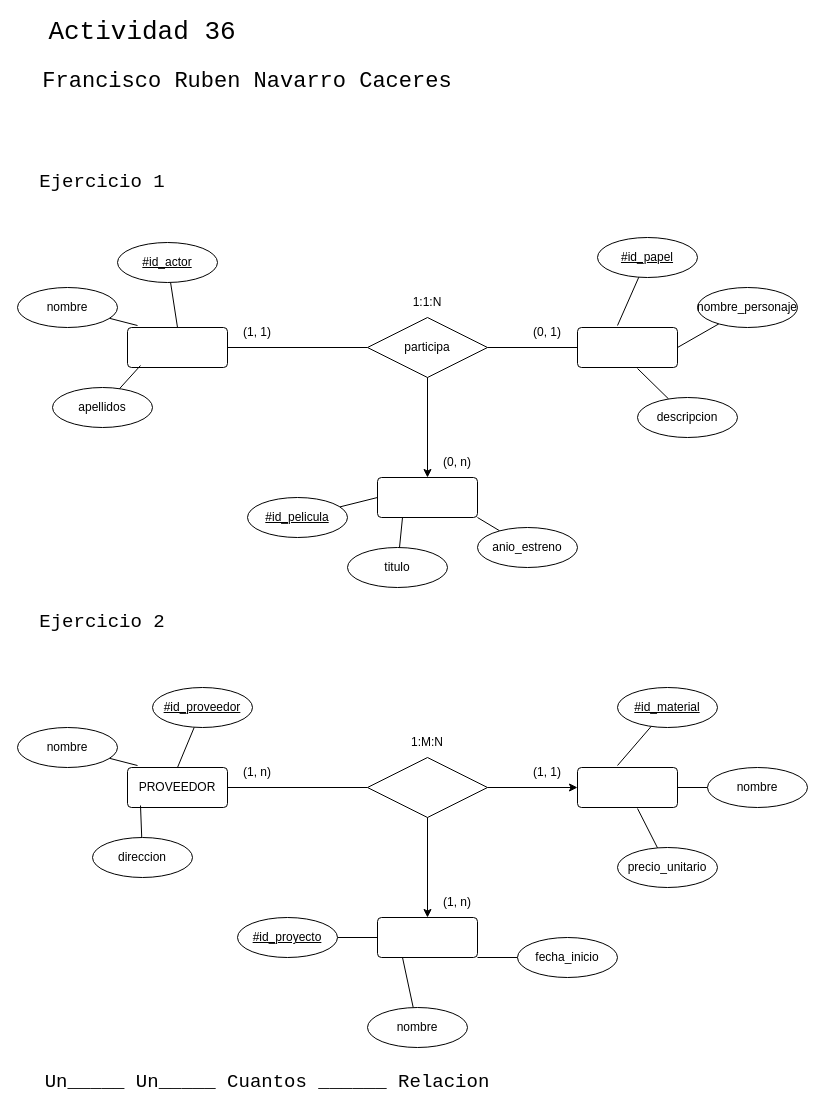
This 825x1115 diagram has some shape labels left out. The shapes that lost their labels are listed below. From the top down, each one's box as (x1, y1, x2, y2) in pixels, then its label:
(126, 326, 228, 368): ACTOR
(576, 326, 678, 368): PAPEL
(376, 476, 478, 518): PELICULA
(366, 756, 488, 818): suministra
(576, 766, 678, 808): MATERIALES
(376, 916, 478, 958): PROYECTOS
